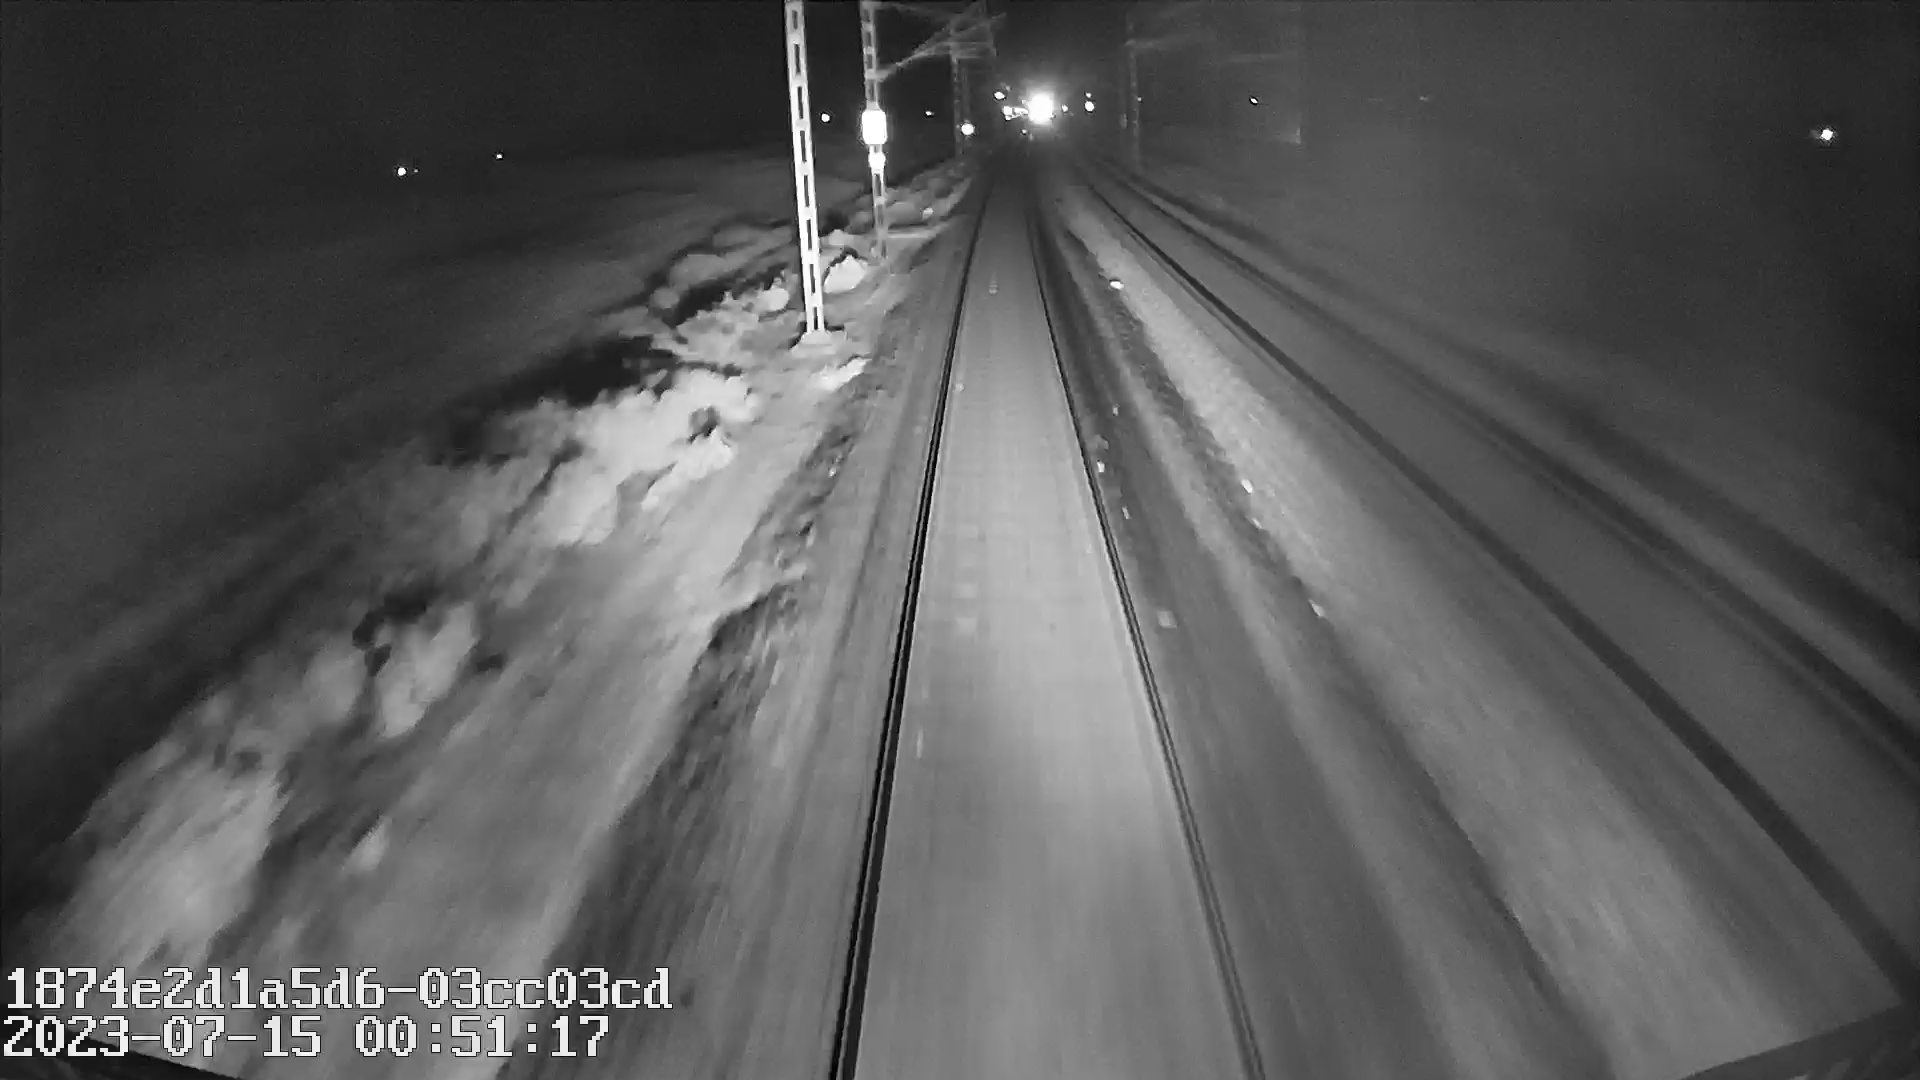track1: (848, 190, 1258, 1063)
track2: (1100, 194, 1909, 856)
